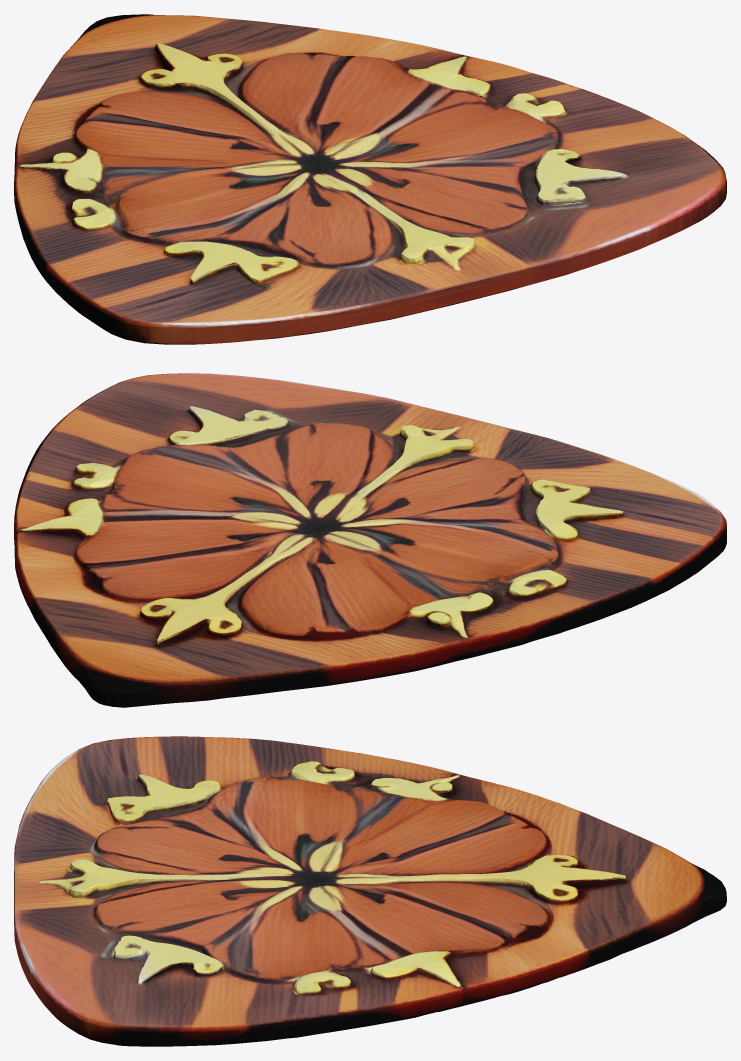
Rendered from wooden-guitar-pick-art-deco.jpeg.glb.
3 renders of one model, top to bottom at view 1: azimuth 30°, elevation 25°; view 2: azimuth 150°, elevation 25°; view 3: azimuth 270°, elevation 25°, orthographic. The views are drawn at different scales.
Parts seen in each view (by area): view 1: world; view 2: world; view 3: world.
Part boxes in pixels (x1=…): world: x1=14, y1=14, x2=726, y2=344; world: x1=14, y1=373, x2=726, y2=707; world: x1=14, y1=736, x2=726, y2=1046.
Bounding box in the file's own units: 0.9782 × 0.0446 × 1.
Materials: 1 (1 with a texture image).
